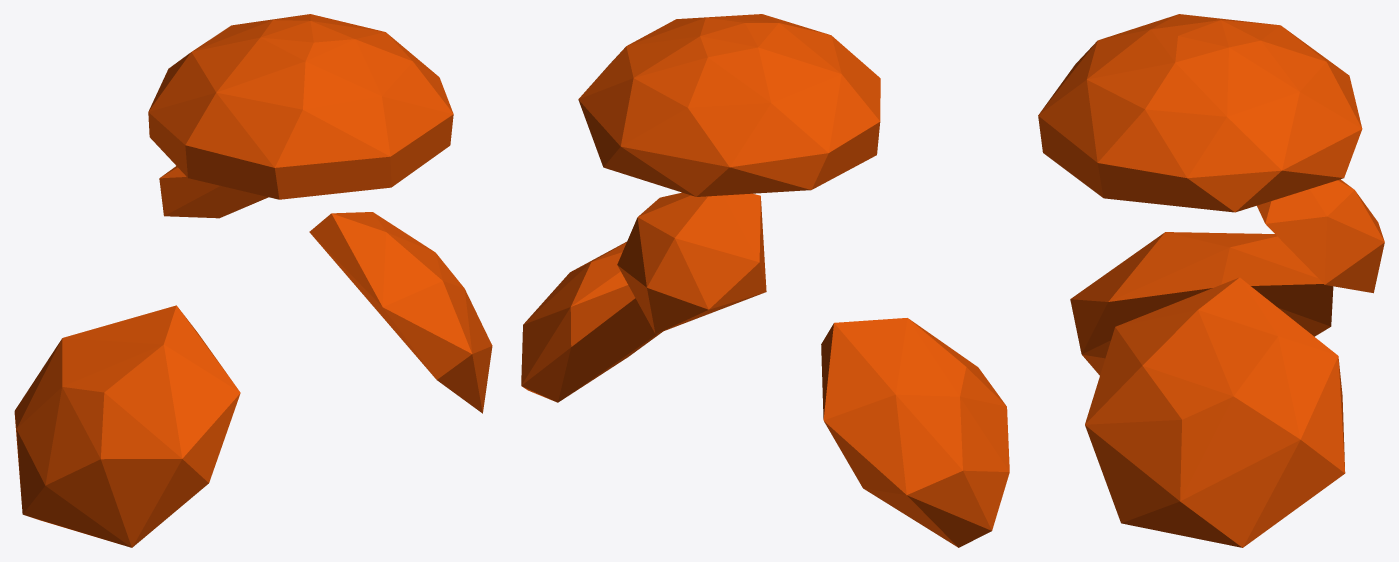
Rendered from tree-autumn-leaves-002.glb.
3 renders of one model, left to right at view 1: azimuth 30°, elevation 25°; view 2: azimuth 150°, elevation 25°; view 3: azimuth 270°, elevation 25°, orthographic. The views are drawn at different scales.
Parts seen in each view (by area): view 1: Circle.027_324; view 2: Circle.027_324; view 3: Circle.027_324.
Part boxes in pixels (x1,y1,x2,y2): Circle.027_324: [14, 14, 492, 547]; Circle.027_324: [521, 14, 1009, 547]; Circle.027_324: [1038, 14, 1384, 547].
Bounding box in the file's own units: 1 × 0.9296 × 0.6198.
